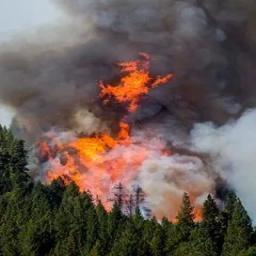Heavy smoke: (63, 1, 255, 47), (1, 41, 97, 119), (162, 50, 256, 120)
Large fire: (49, 50, 213, 226)
